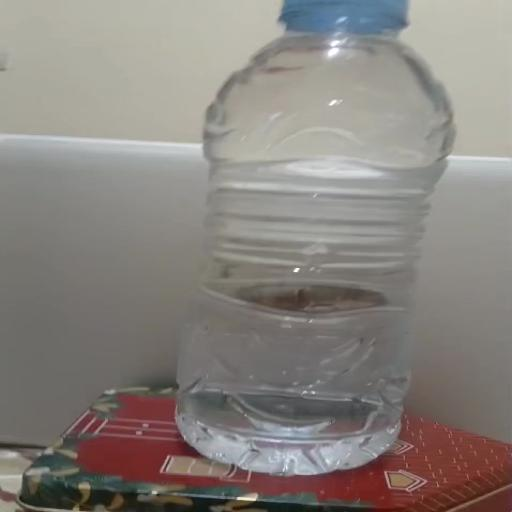bouteille non conformite: (141, 0, 510, 512), (59, 193, 474, 323)
